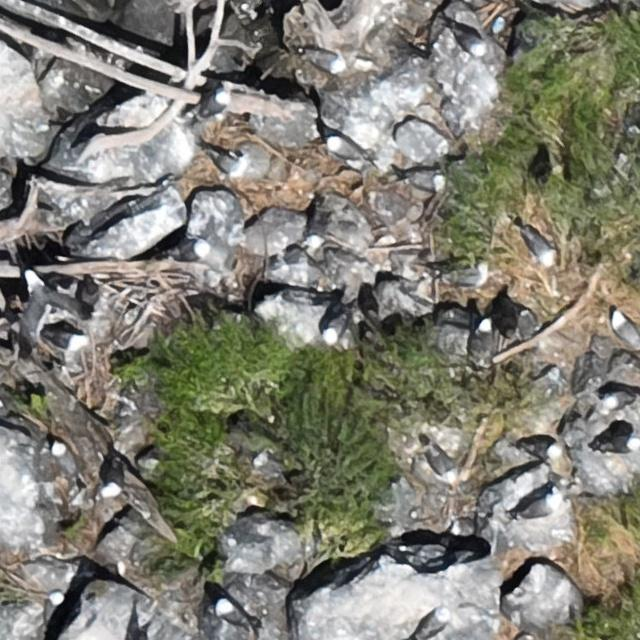F: (23, 258, 95, 349)
umineko: (323, 137, 373, 162), (412, 604, 452, 634), (253, 453, 291, 483), (172, 238, 209, 266), (472, 316, 494, 363), (612, 315, 638, 347), (44, 591, 66, 628), (526, 230, 552, 261), (198, 91, 227, 117), (596, 438, 640, 455), (430, 451, 456, 479), (54, 329, 90, 349), (306, 52, 342, 71), (406, 171, 442, 190), (458, 31, 484, 57), (525, 439, 560, 458), (53, 444, 75, 474), (306, 211, 324, 247), (324, 315, 346, 344), (218, 601, 244, 625), (212, 154, 240, 176), (523, 498, 553, 518), (104, 462, 121, 494), (604, 392, 632, 409)
